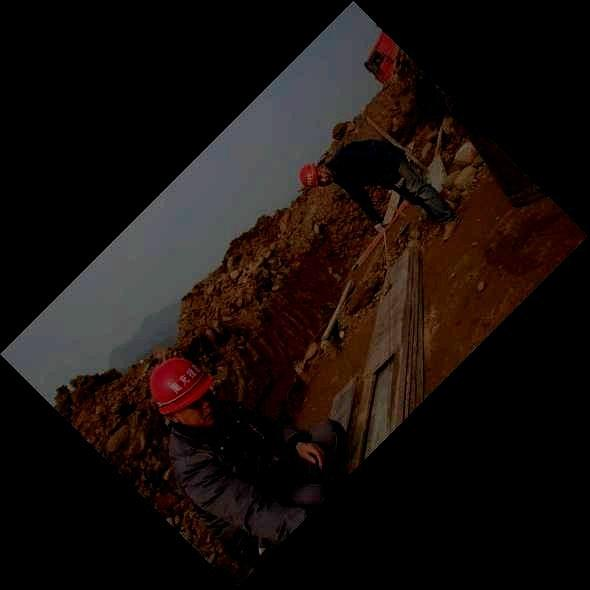helmet: (148, 356, 219, 425), (297, 163, 334, 188)
